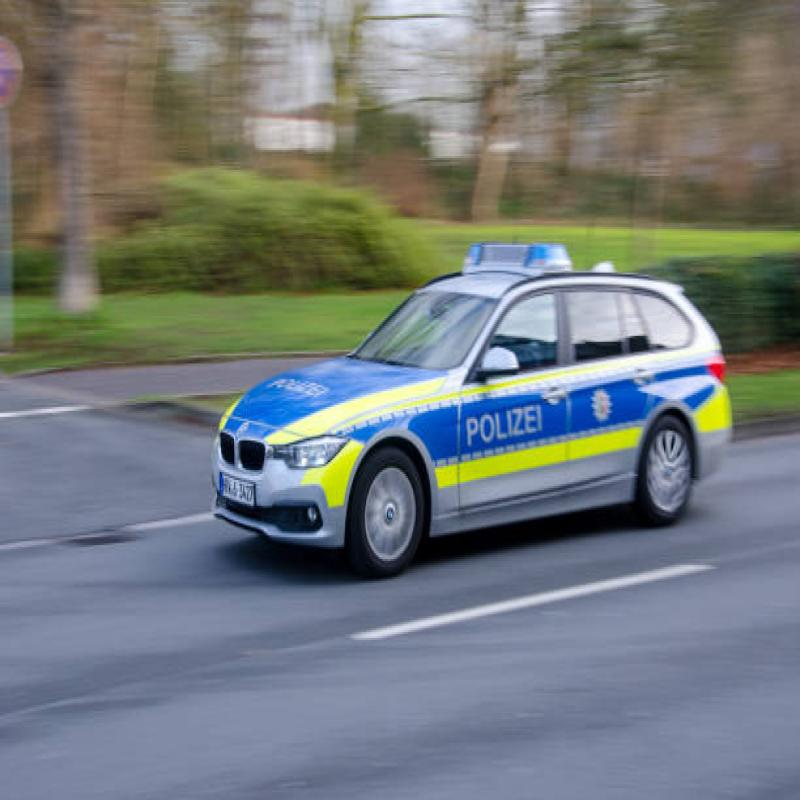AmbulanceSiren: (461, 214, 565, 287)
